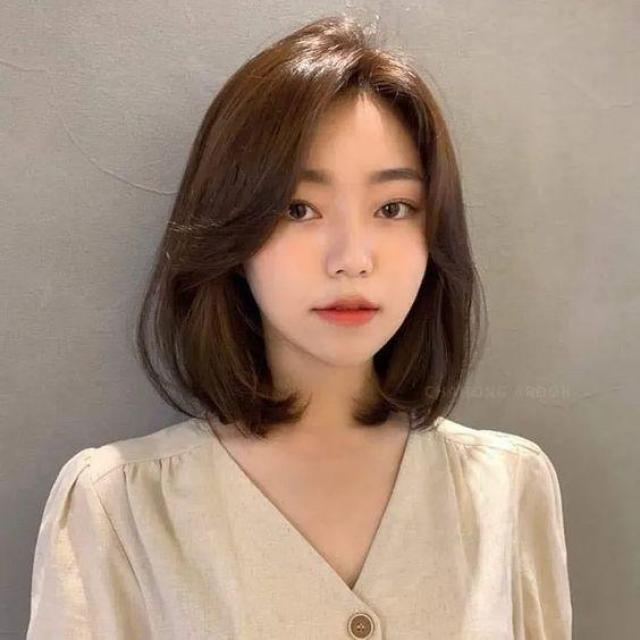Nonhelmet: (158, 27, 468, 384)
